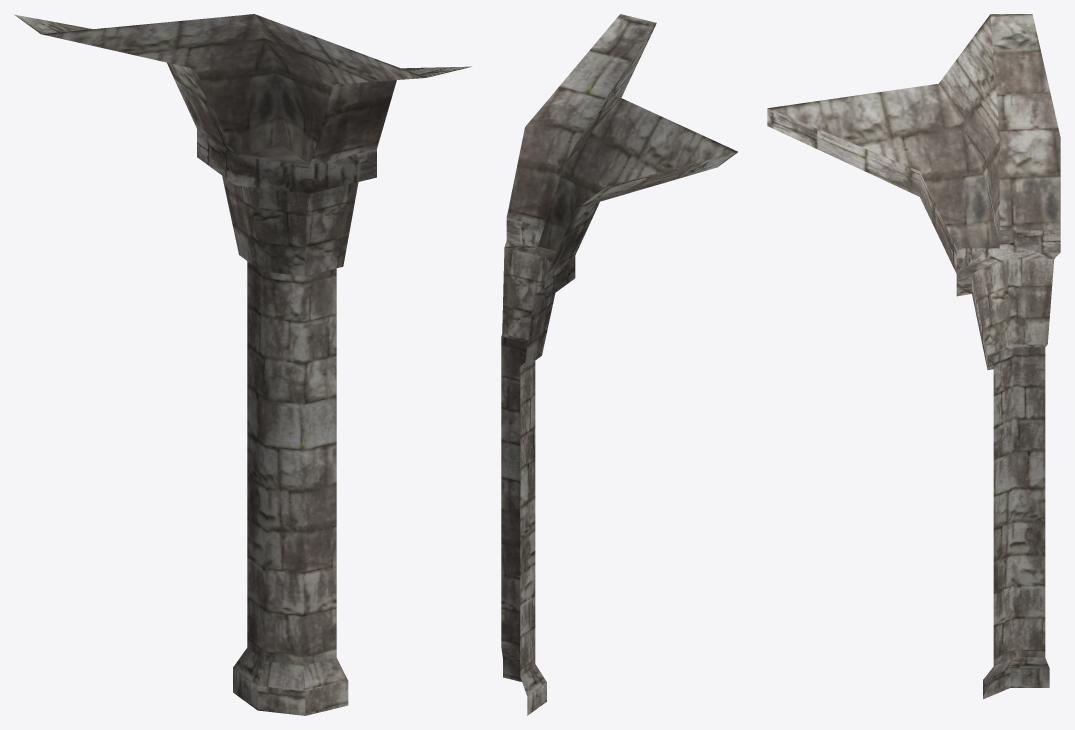
File: ornate_pillar_corner.glb
3 views of the same model, side by side, from view 1: azimuth 30°, elevation 25°; view 2: azimuth 150°, elevation 25°; view 3: azimuth 270°, elevation 25° (orthographic). The views are drawn at different scales.
Parts seen in each view (by area): view 1: ornate_pillar_corner; view 2: ornate_pillar_corner; view 3: ornate_pillar_corner.
Part boxes in pixels (x1,y1,x2,y2): ornate_pillar_corner: (14,14,471,715); ornate_pillar_corner: (501,14,737,715); ornate_pillar_corner: (767,14,1060,699).
Bounding box in the file's own units: 4.13 × 9.3 × 4.22.
Materials: 1 (1 with a texture image).
